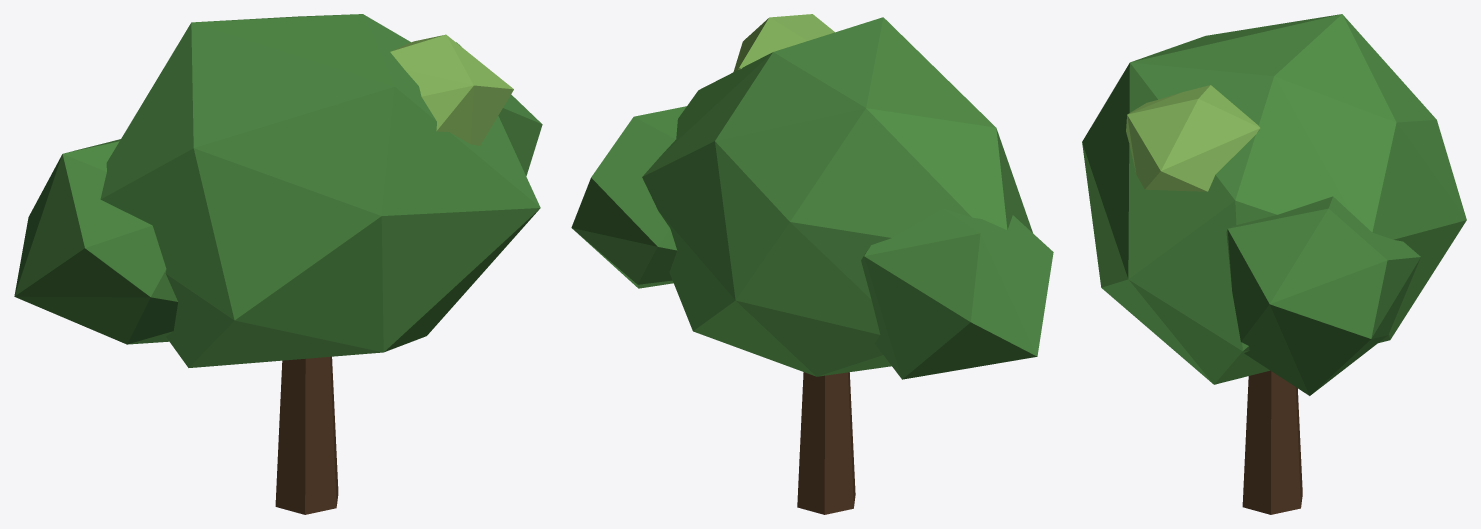
The model's file is deco_tree_b.glb.
The picture shows the model from 3 angles, left to right: view 1: azimuth 30°, elevation 25°; view 2: azimuth 150°, elevation 25°; view 3: azimuth 270°, elevation 25°; orthographic projection. The views are drawn at different scales.
Parts seen in each view (by area): view 1: deco_tree_b_mesh; view 2: deco_tree_b_mesh; view 3: deco_tree_b_mesh.
Boxes of the visible parts, x1,y1,x2,y2 form: deco_tree_b_mesh: [14, 14, 542, 514]; deco_tree_b_mesh: [571, 14, 1053, 514]; deco_tree_b_mesh: [1082, 14, 1466, 514].
Size of the model in its own units: 0.3992 by 0.3639 by 0.2814.
